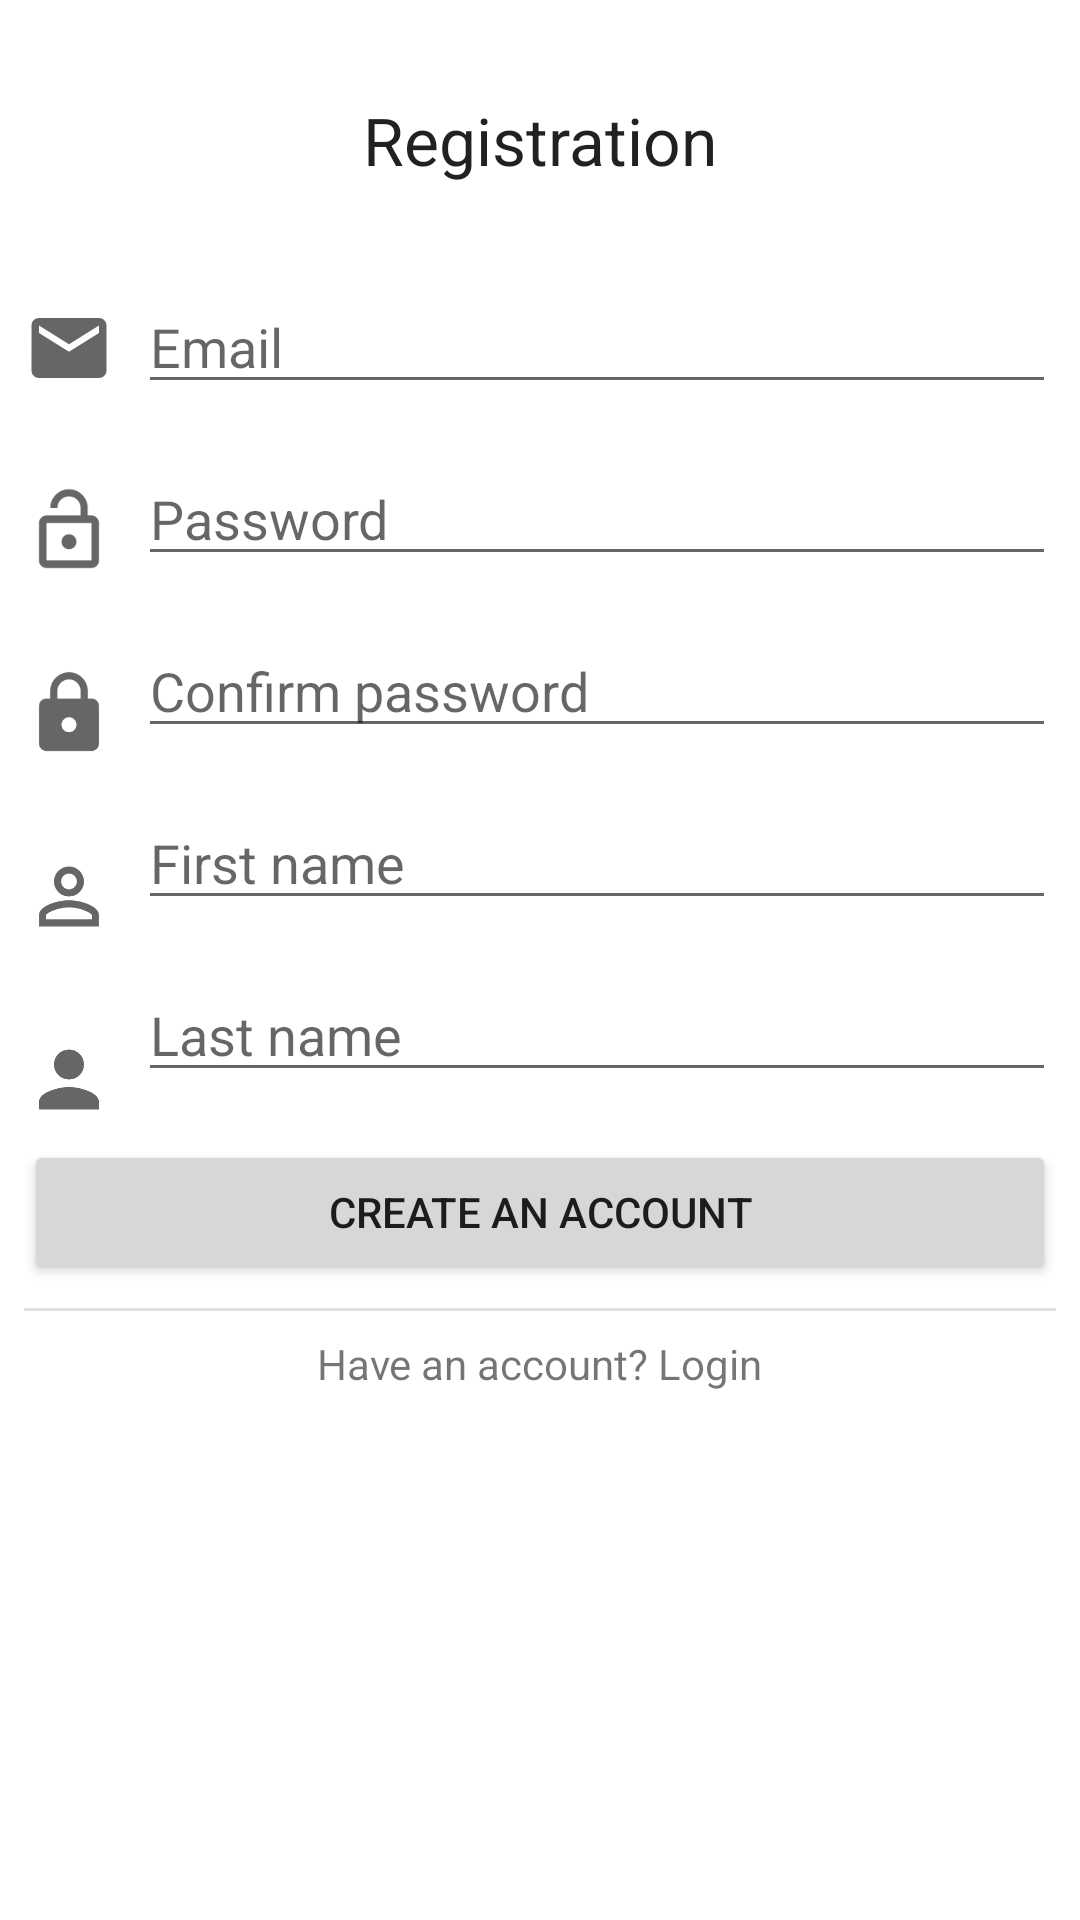

Icons on this 1080x1920 Android screen, each with the point to tap as (x=x, y=y):
lock: (x=69, y=711)
lock open: (x=69, y=529)
